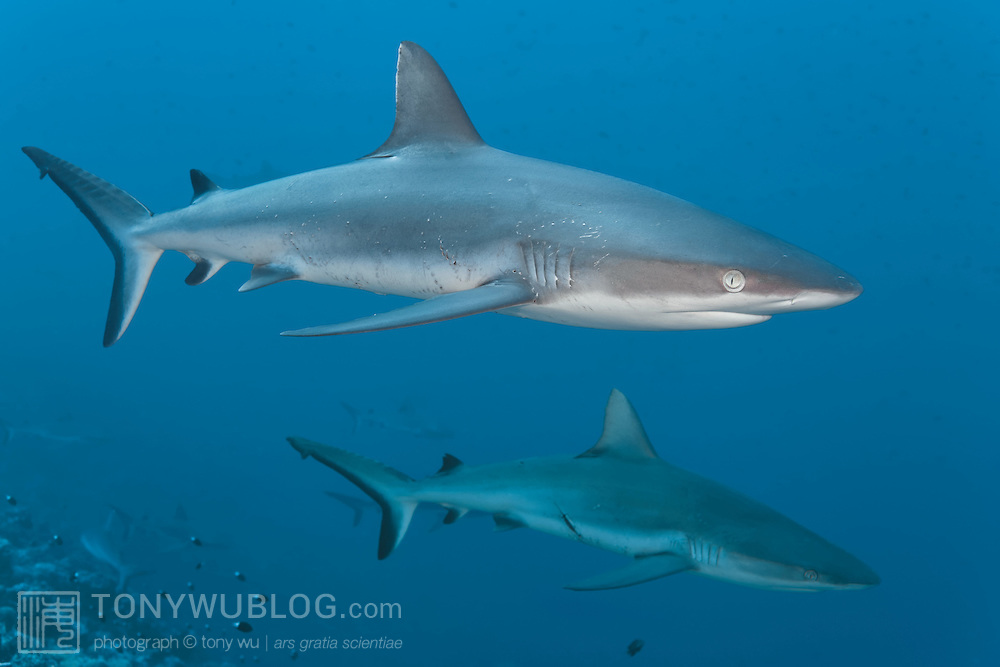Carcharhinus_amblyrhynchos: (7, 29, 862, 355), (268, 371, 911, 617)
